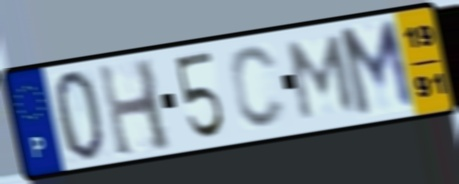0: (52, 67, 108, 164)
5: (171, 48, 226, 142)
C: (227, 42, 290, 131)
H: (94, 56, 176, 161)
M: (335, 16, 420, 122), (285, 32, 359, 124)
